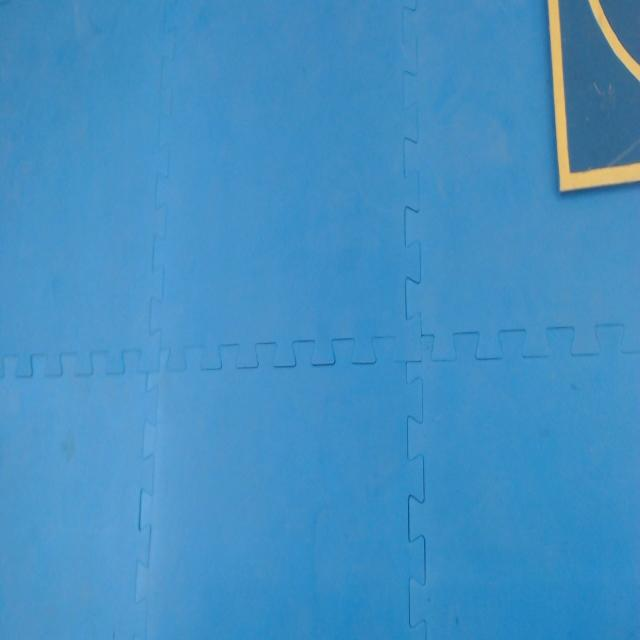base_pouso: (549, 0, 640, 196)
